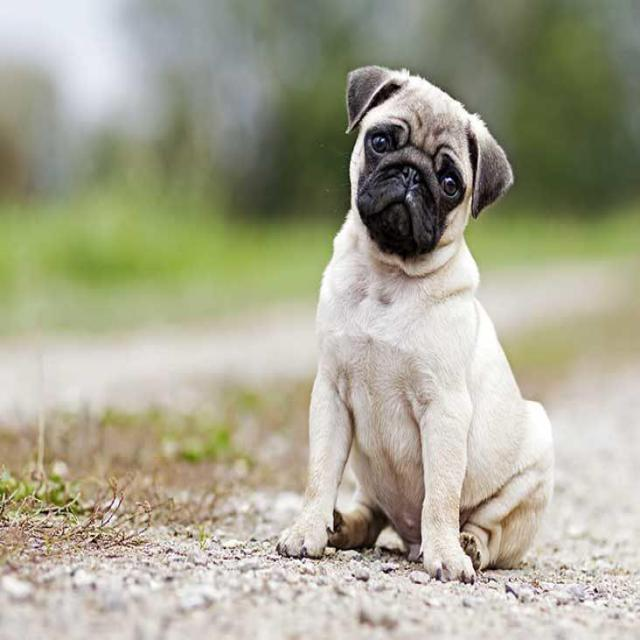Dog: (339, 56, 519, 279)
